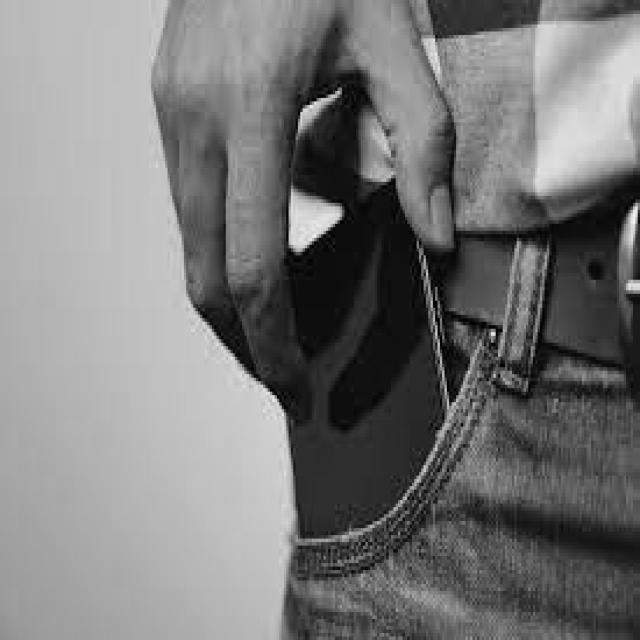No gun_phone: (286, 181, 452, 541)
